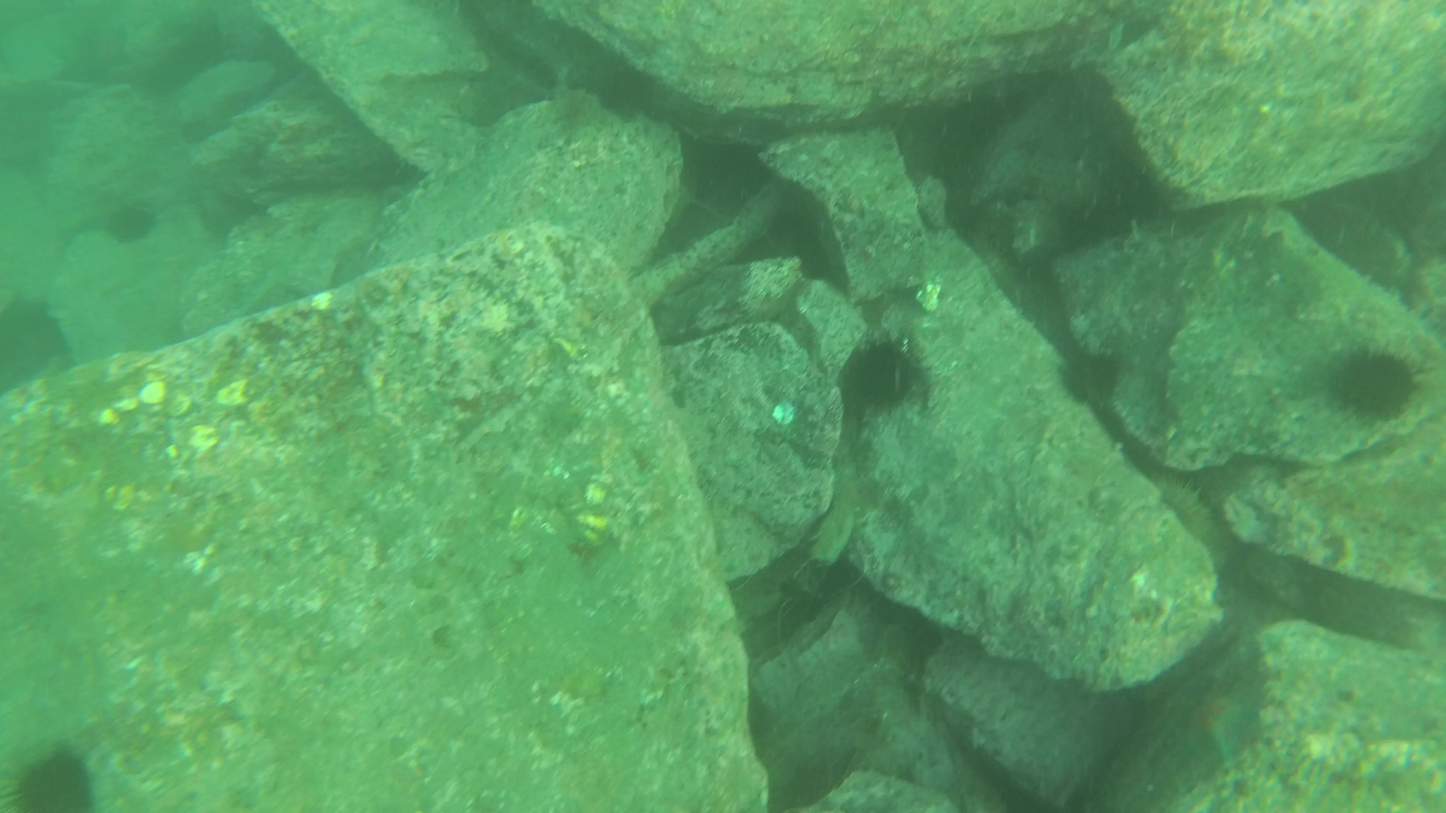starfish: (1335, 346, 1420, 423), (8, 747, 103, 813), (3, 301, 66, 398), (838, 341, 918, 417), (109, 201, 158, 246)
